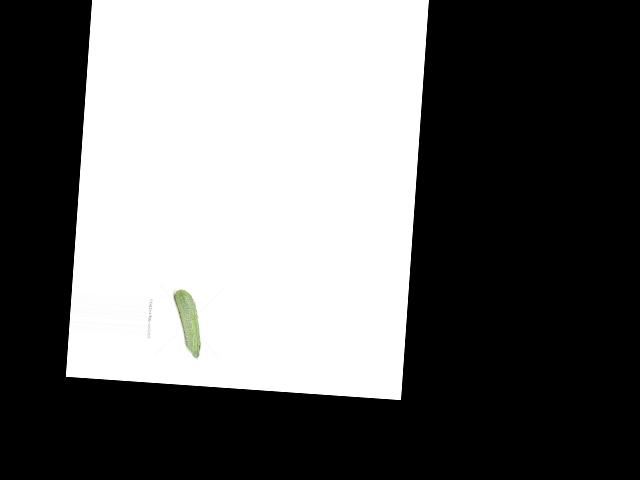cucumber: (169, 289, 204, 359)
